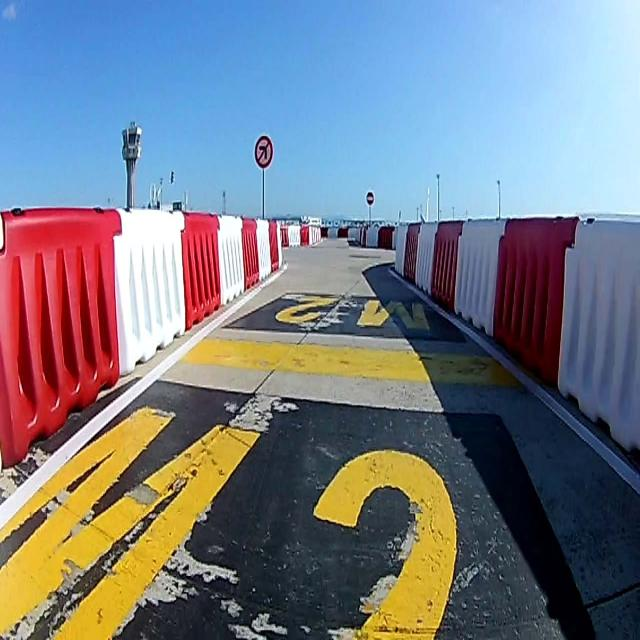soladonulmez: (255, 136, 273, 168)
